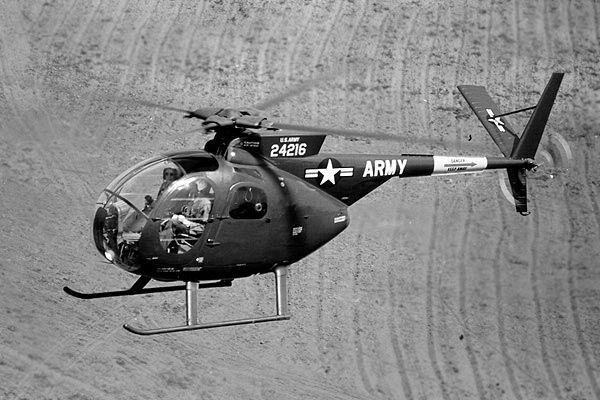airplane: (57, 65, 586, 341)
